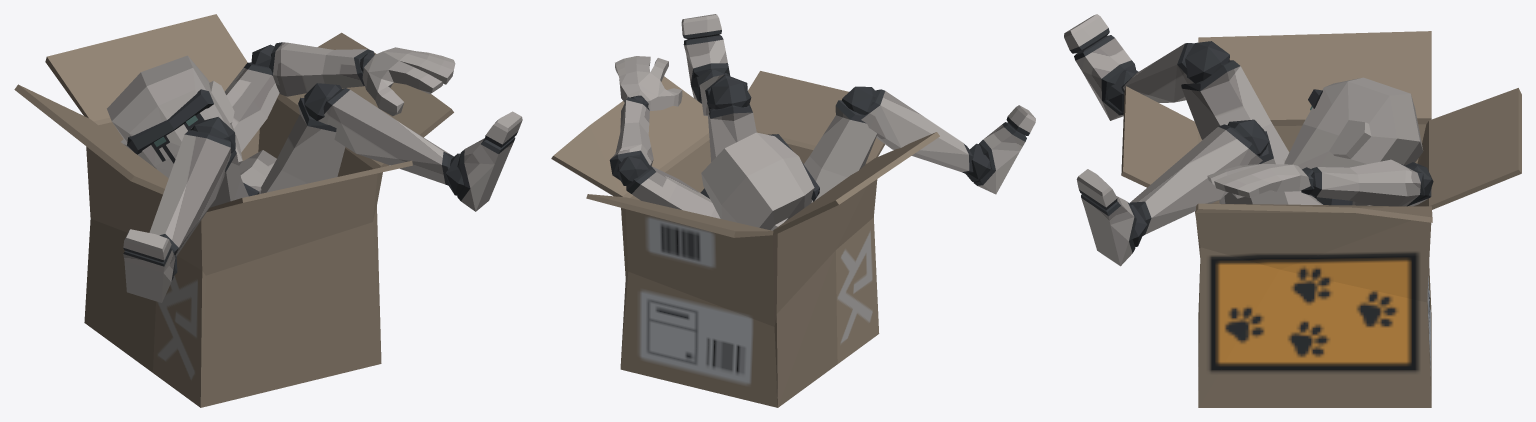
The model's file is SM_Prop_Cardboard_Box_05.fbx.
The picture shows the model from 3 angles, left to right: view 1: azimuth 30°, elevation 25°; view 2: azimuth 150°, elevation 25°; view 3: azimuth 270°, elevation 25°; orthographic projection. The views are drawn at different scales.
Visible parts, largest first — view 1: SM_Prop_Cardboard_Box_05; view 2: SM_Prop_Cardboard_Box_05; view 3: SM_Prop_Cardboard_Box_05.
Boxes of the visible parts, x1,y1,x2,y2 form: SM_Prop_Cardboard_Box_05: (14,14,522,407); SM_Prop_Cardboard_Box_05: (551,14,1035,407); SM_Prop_Cardboard_Box_05: (1064,14,1521,407).
Size of the model in its own units: 104 by 69.21 by 101.
